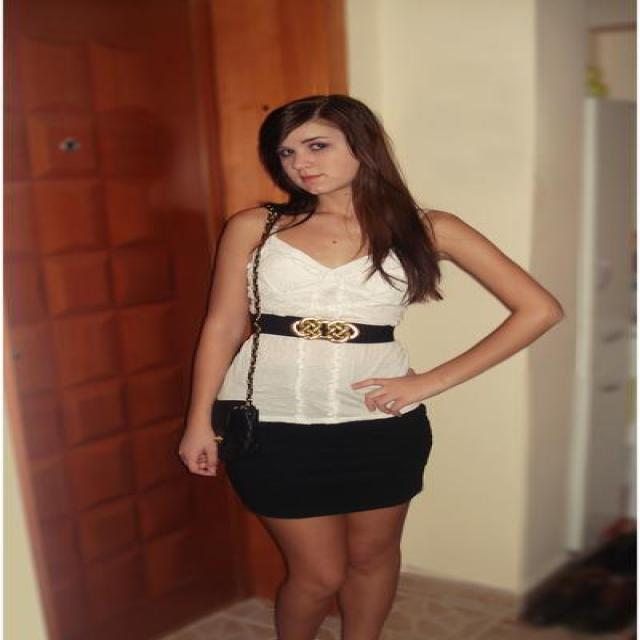bag: (211, 307, 258, 445)
shirt: (221, 243, 416, 424)
skirt: (216, 403, 430, 522)
